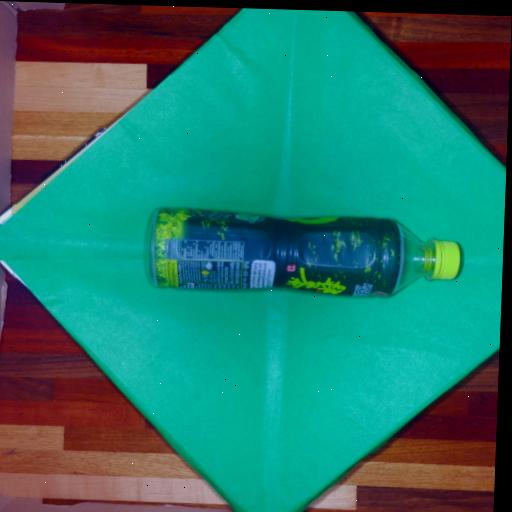bottle: (145, 206, 464, 303)
